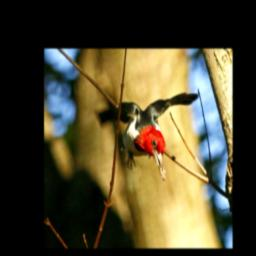Woodpecker: (96, 84, 204, 183)
